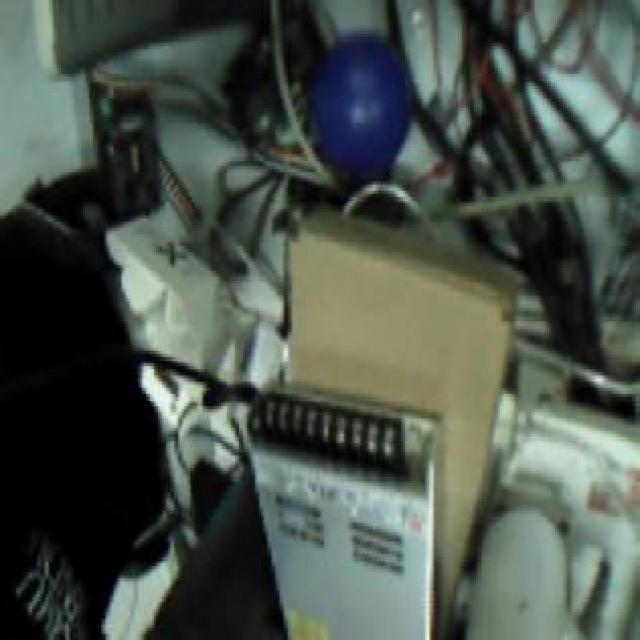BallPurple: (306, 30, 412, 178)
